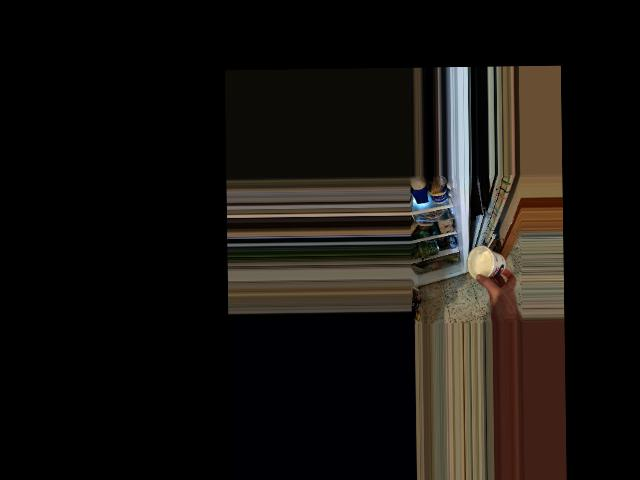cotage: (468, 245, 505, 280)
